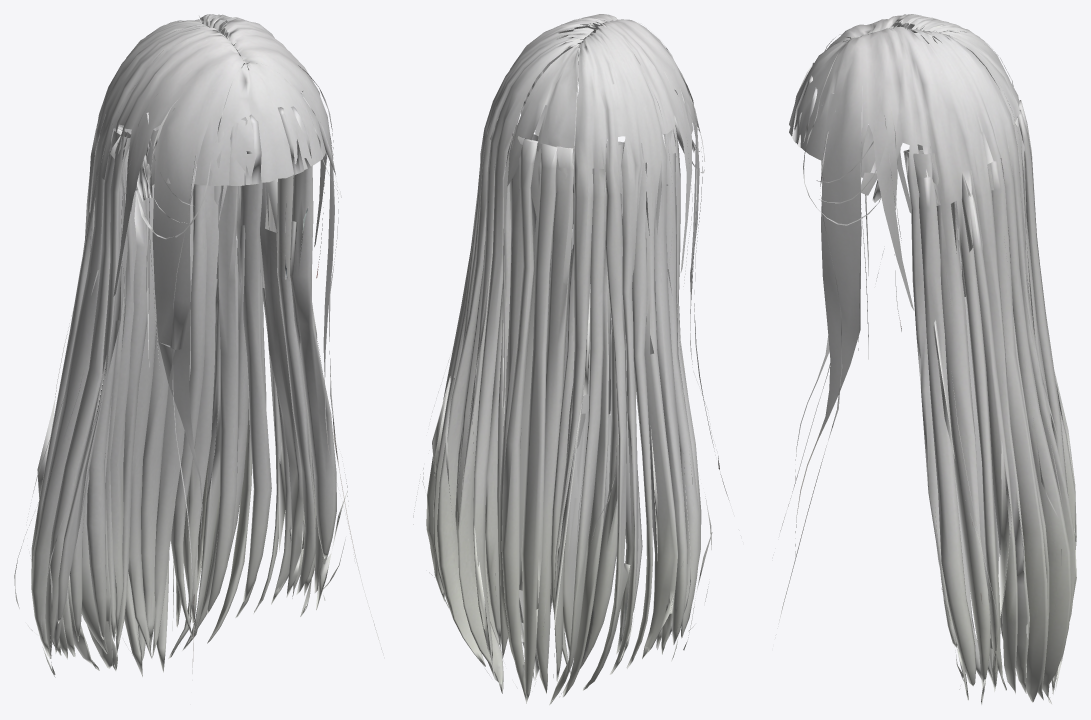
The model's file is hair-1.glb.
3 renders of one model, left to right at view 1: azimuth 30°, elevation 25°; view 2: azimuth 150°, elevation 25°; view 3: azimuth 270°, elevation 25°, orthographic. The views are drawn at different scales.
Size of the model in its own units: 0.439 by 0.9507 by 0.3906.
1 material, 1 textured.
